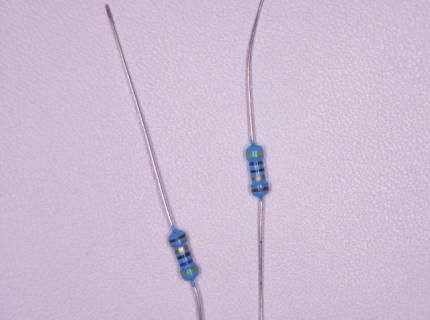Black band: (177, 251, 191, 260), (250, 168, 264, 173)
Brown band: (169, 233, 186, 244), (251, 187, 269, 192)
Gold band: (175, 245, 189, 255), (251, 175, 265, 180)
Violet band: (180, 258, 193, 267), (249, 161, 264, 166)
Yellow band: (181, 267, 198, 277), (246, 151, 263, 157)
